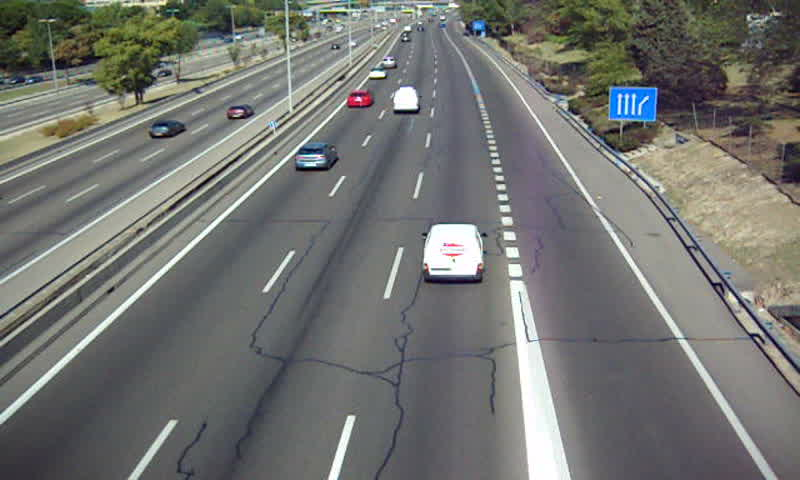car: (293, 142, 337, 170), (347, 90, 371, 108), (368, 67, 386, 80), (382, 55, 394, 68)
van: (422, 224, 484, 282), (391, 86, 419, 114)
